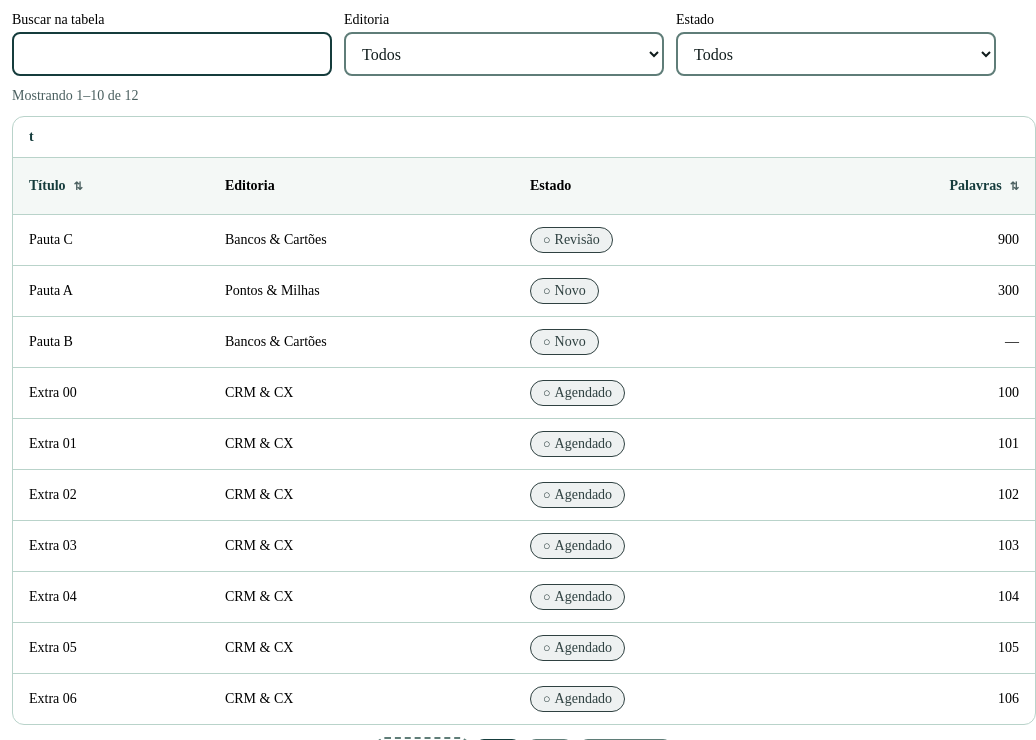
Test case: DataTable › filtro sem resultado mostra mensagem própria (≠ tabela vazia)
The image size is (1036, 740).
Type "zzzz" into the search field labelled "Buscar na tabela" at [172, 54], box [12, 32, 332, 76]
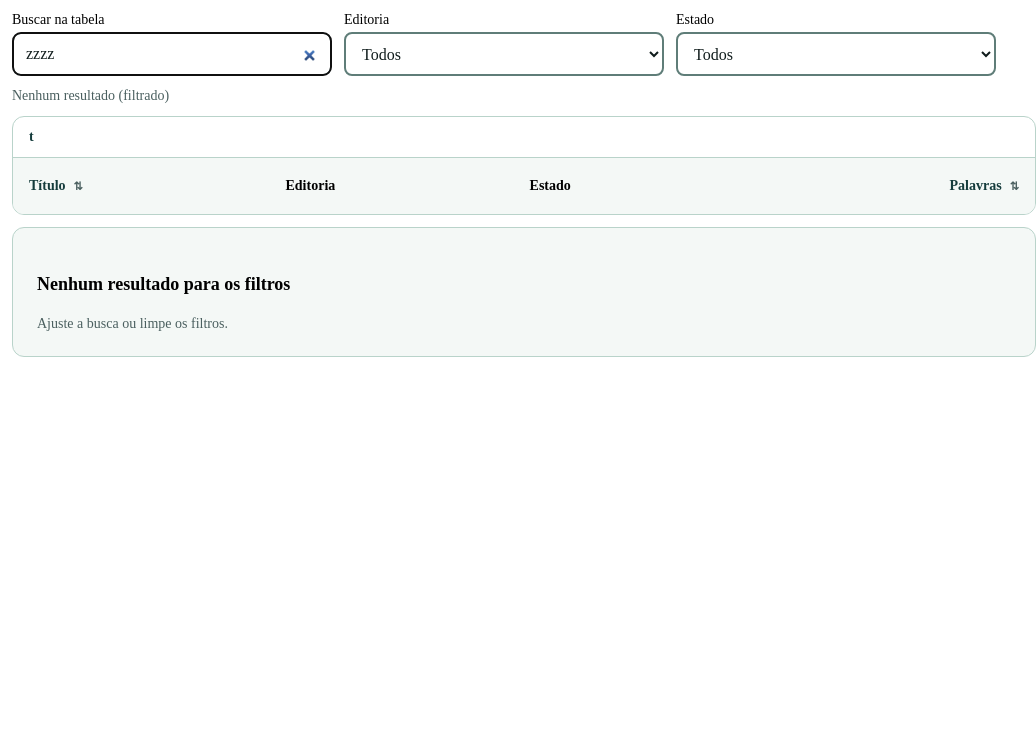
Expected: the heading "Nenhum resultado para os filtros" is shown, [37, 274, 290, 294]
Expected: the text "Nenhum resultado (filtrado)" is shown, [12, 88, 169, 103]
